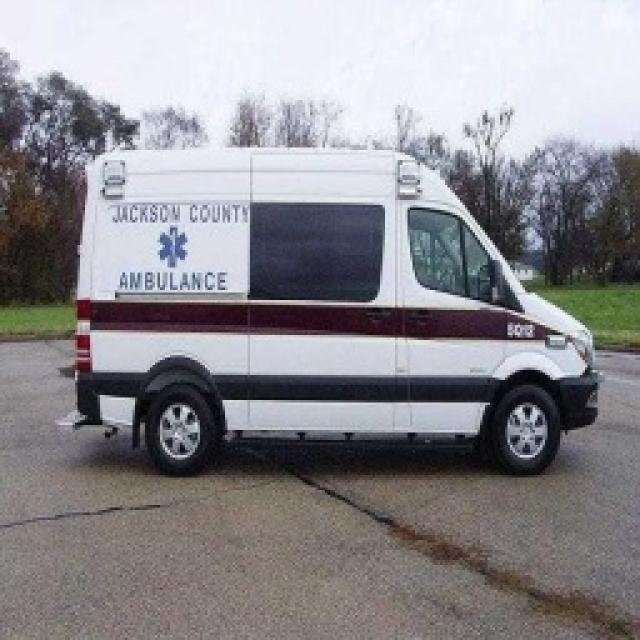emergency-vehicle: (64, 149, 604, 475)
